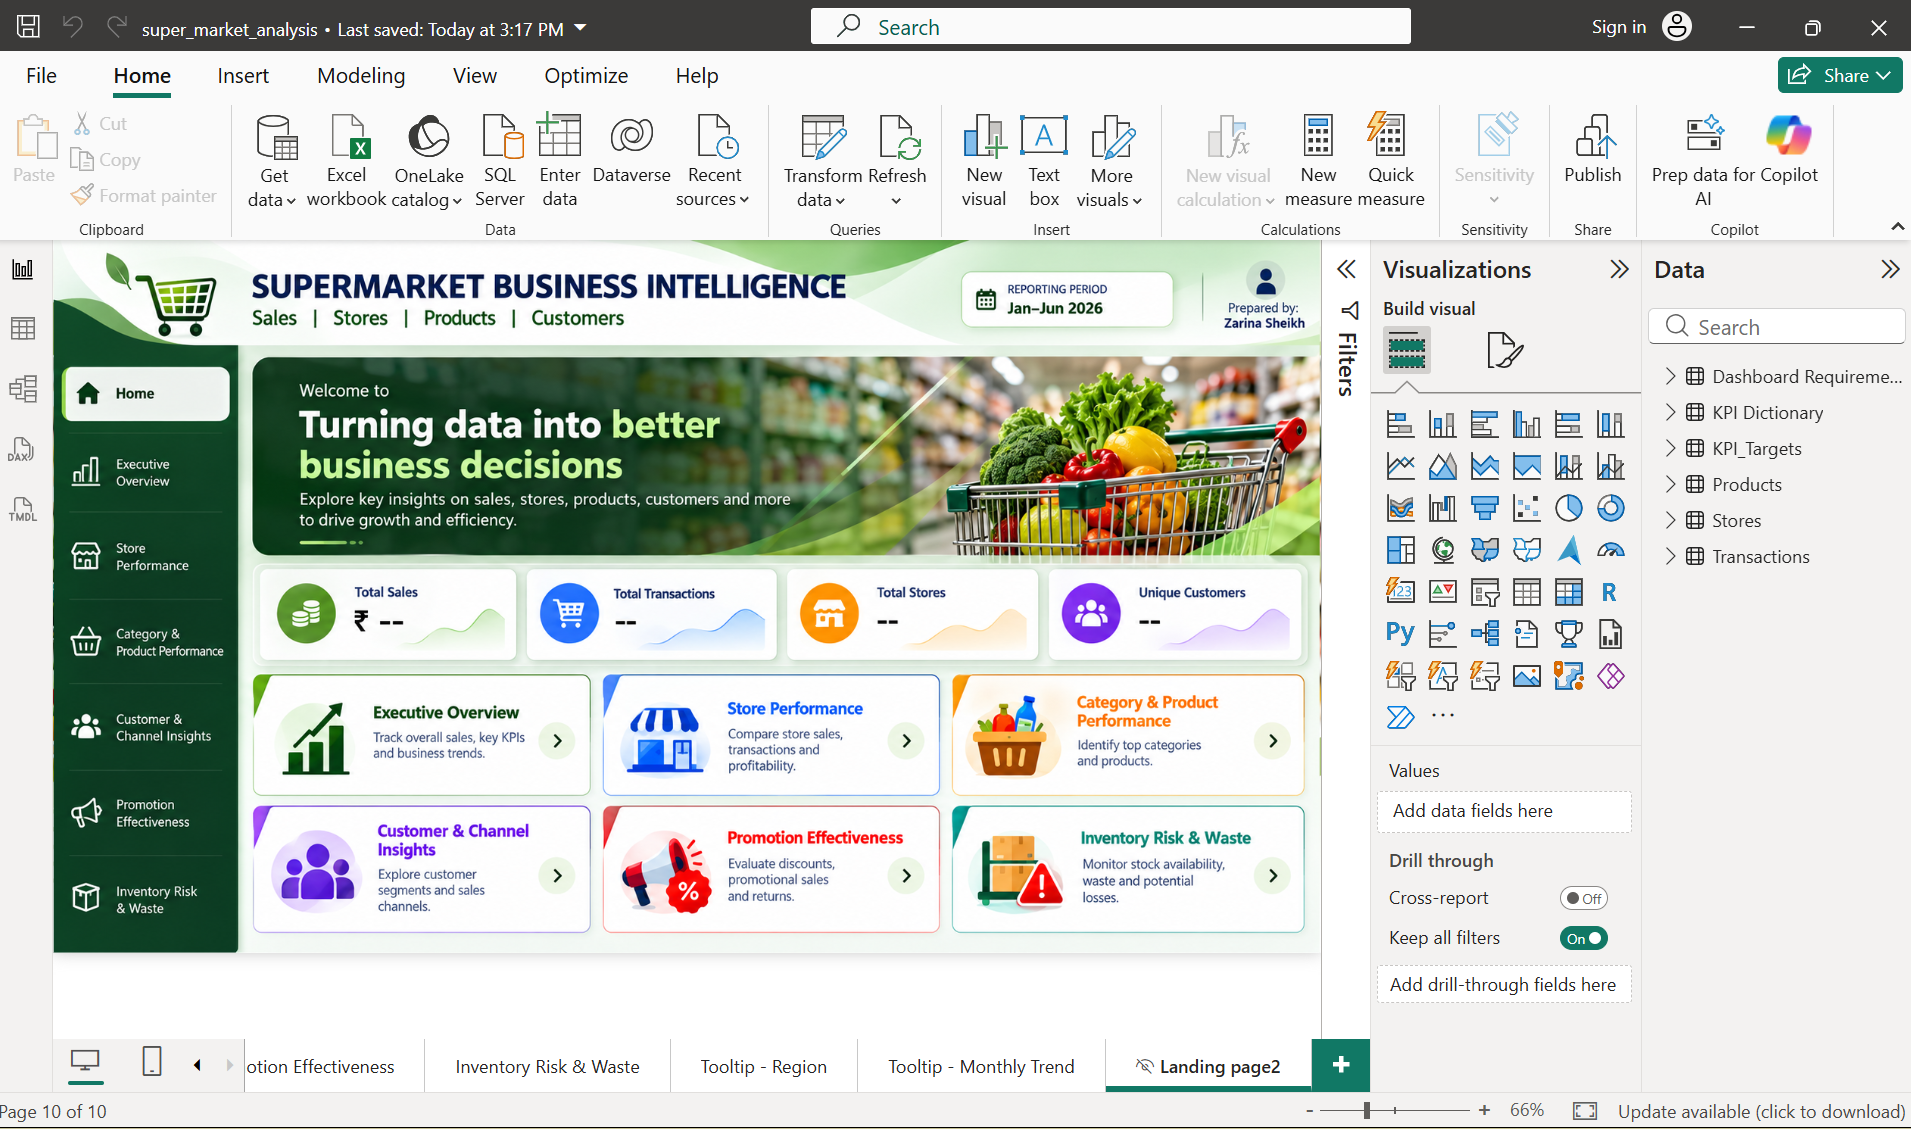

The dashboard page shown, as its layout file describes it:
{"tool":"powerbi","page":{"name":"Landing page2","canvas":[1280,720],"ordinal":9},"visuals":[{"type":"image","box":[0,0,1279.5,719.2],"z":0}]}

Visuals, with their boxes on the page's 1280x720 design canvas (x1, y1, x2, y2). These are canvas units, not pixel positions in the 1911x1129 screenshot, which may show the page scaled, cropped or inside an application window:
image: region(0, 0, 1280, 719)
